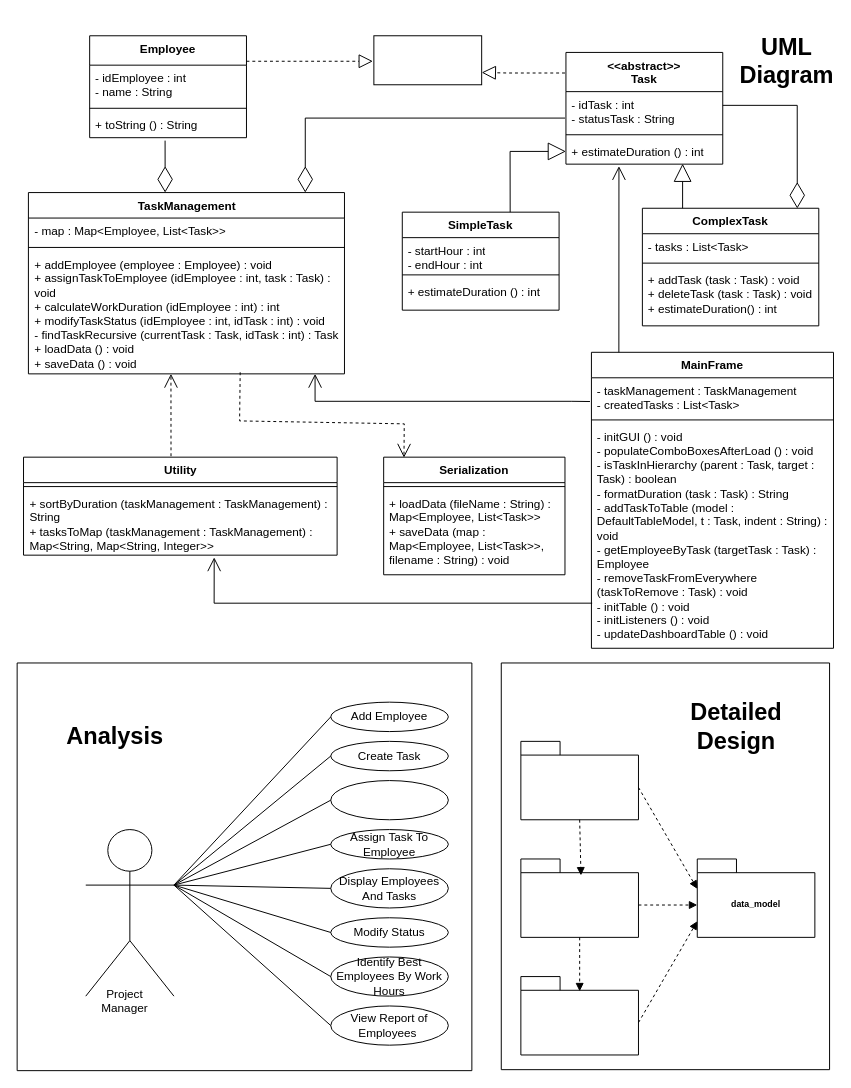
The diagram is 851 pixels wide and 1088 high, and some of its shapes have lost their labels. Here are the shapes that lost their labels. From the top down, the centre of each, then its label:
the point at 427,60: «interface» Serializable
the point at 389,800: Add Task To Complex Task
the point at 579,780: graphical_user_interface
the point at 579,897: business_logic
the point at 579,1015: data_access
